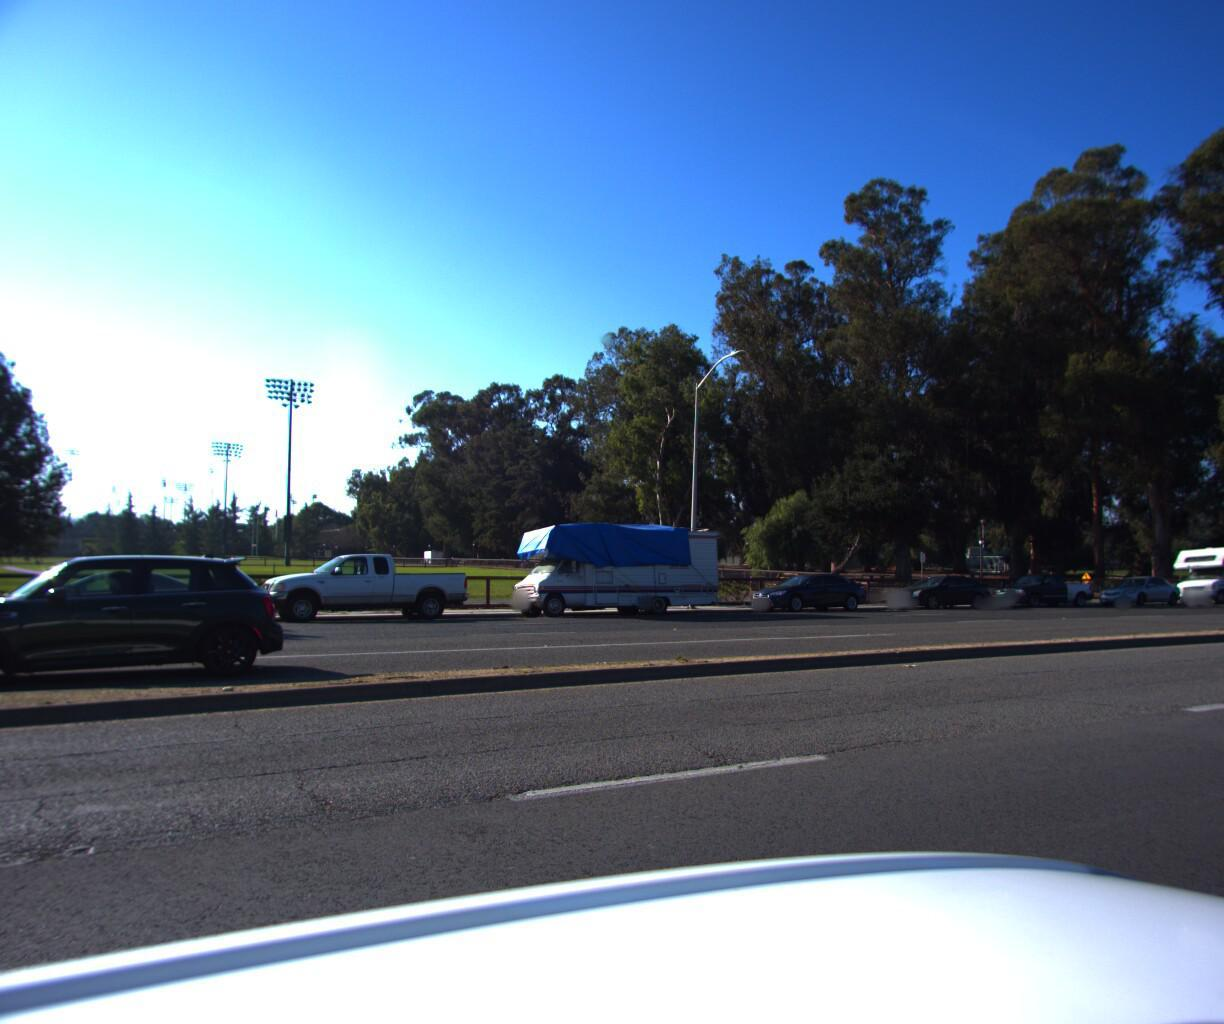car: (0, 550, 290, 708), (247, 546, 481, 630), (740, 571, 875, 617), (877, 573, 996, 613), (984, 571, 1098, 611), (1088, 573, 1183, 607)
other_vehicle: (500, 513, 732, 624), (1154, 533, 1224, 606)
